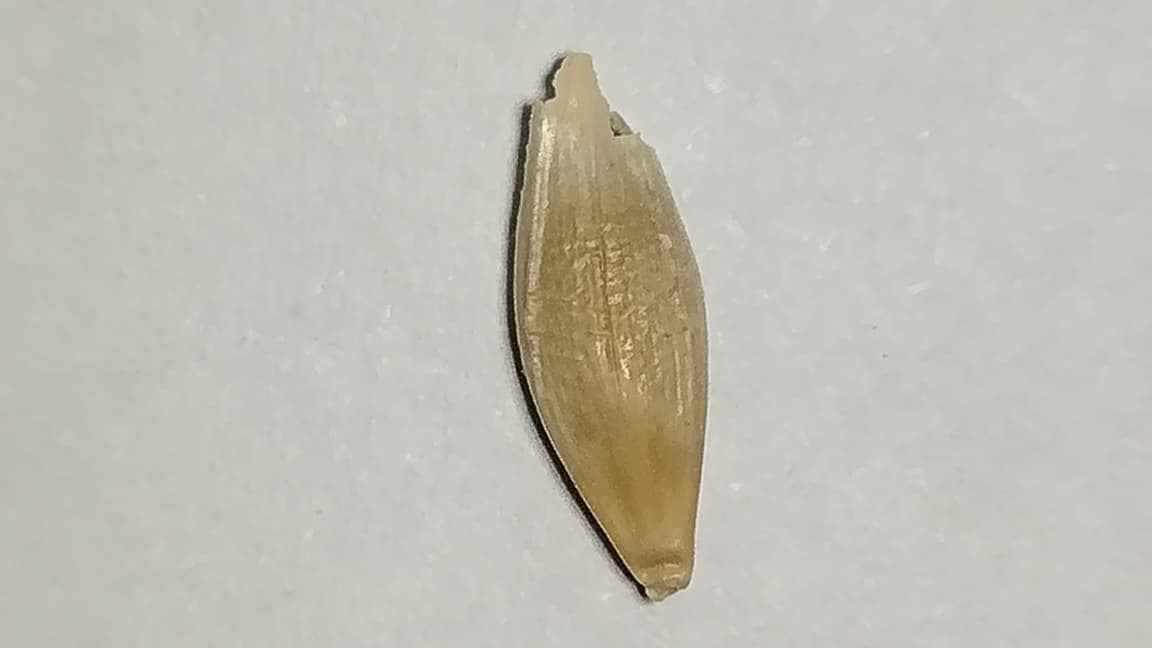healthy-50-40: (517, 59, 706, 597)
insectdamage: (599, 109, 642, 144)
